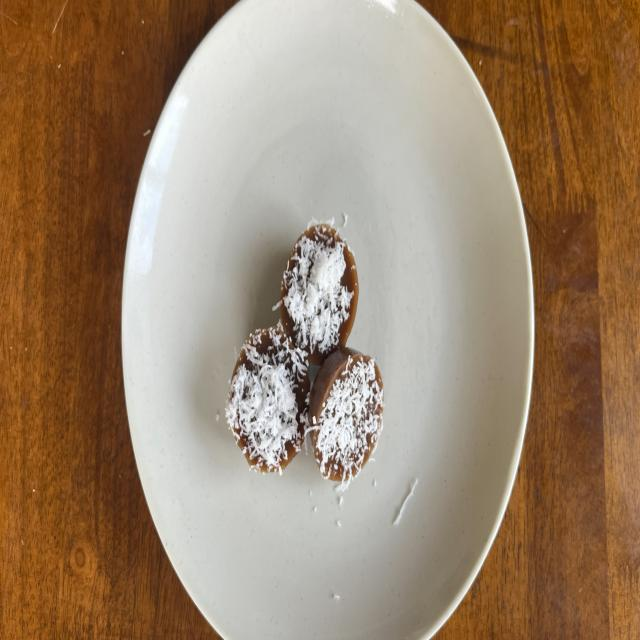Kuih lompang: (226, 327, 310, 473), (280, 222, 359, 364), (309, 347, 384, 489)
